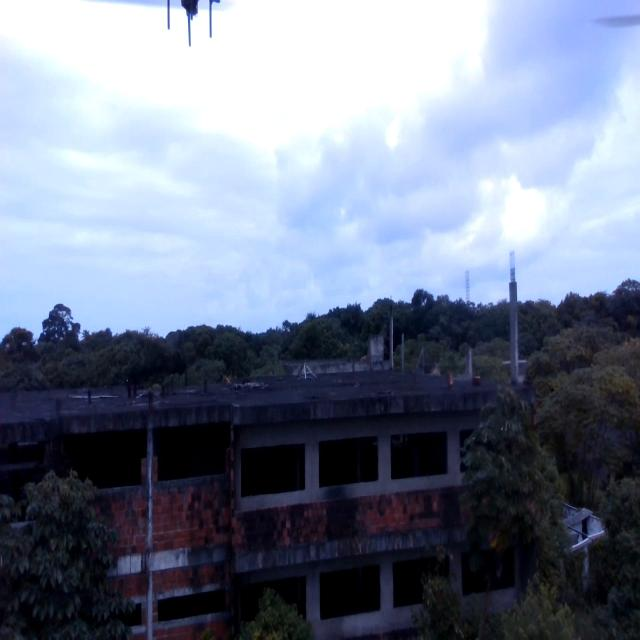-uav-: (153, 0, 223, 55)
